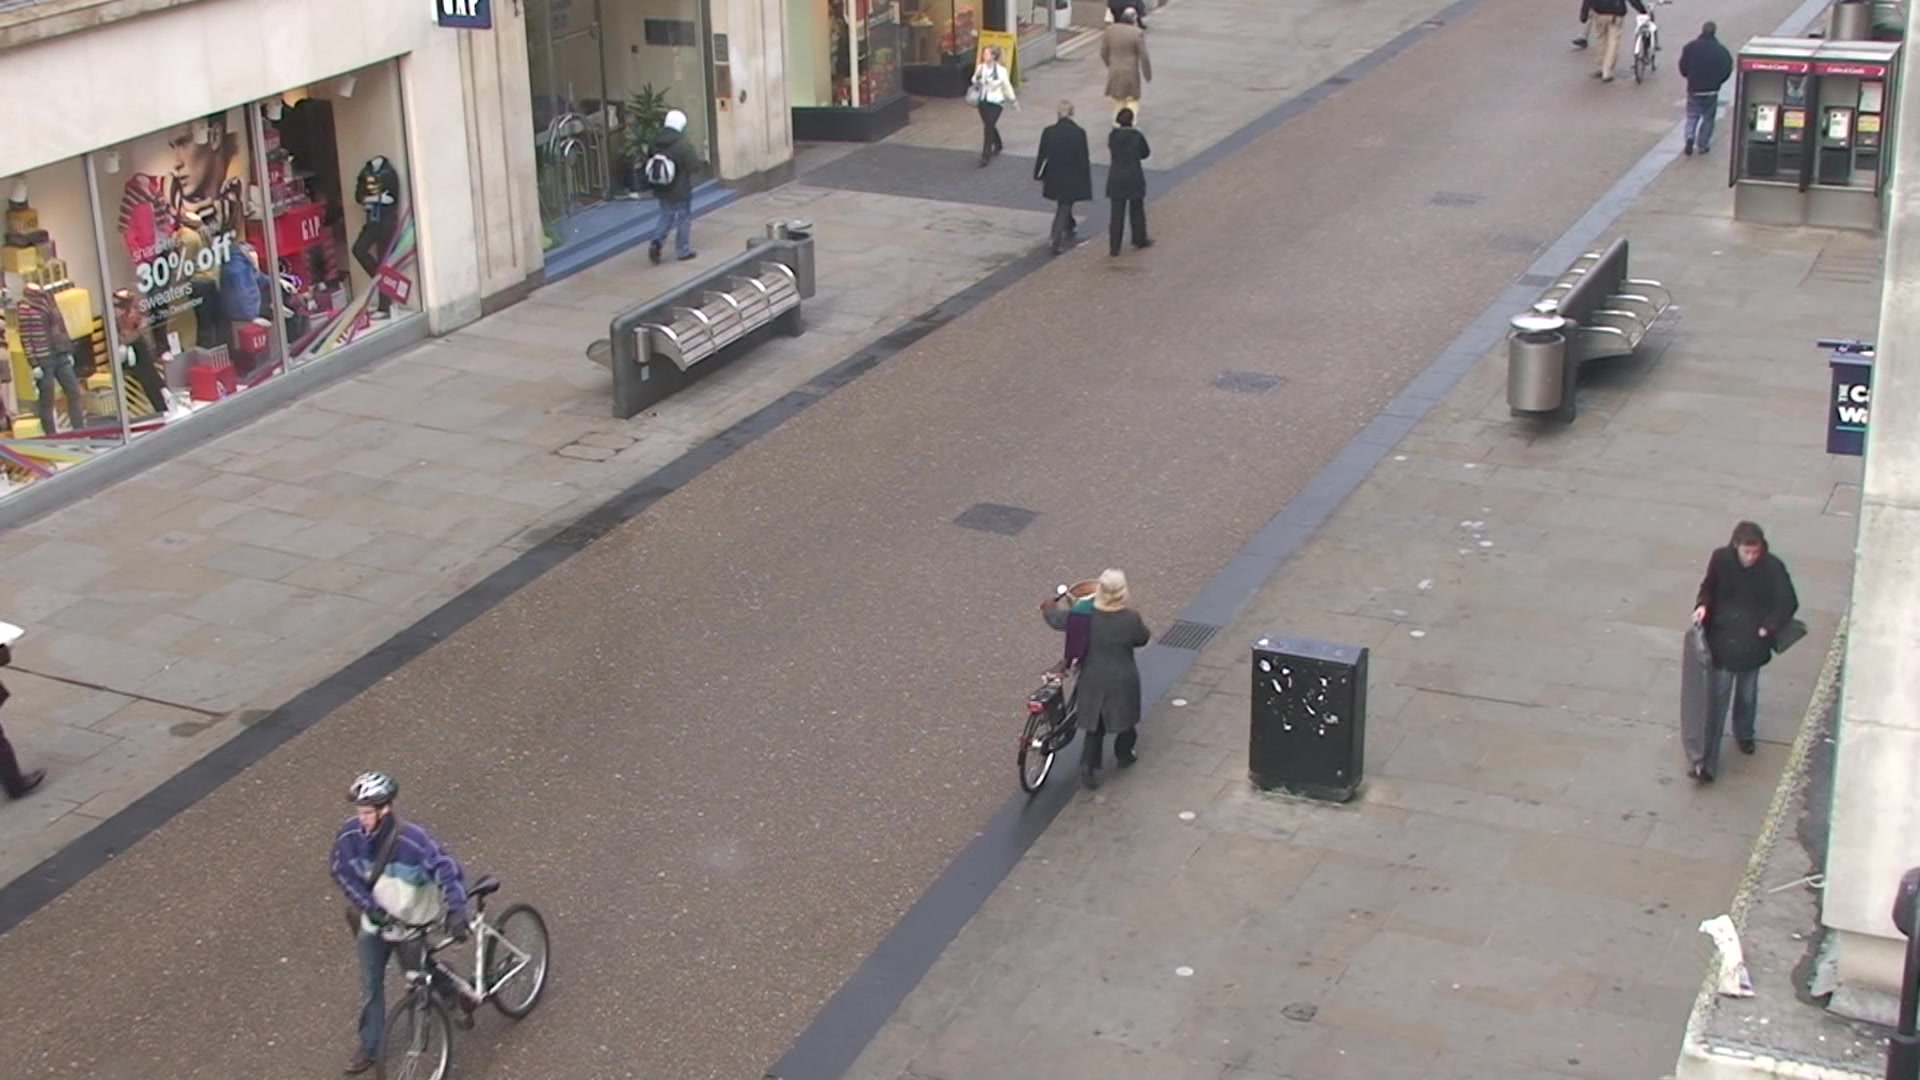person: (327, 770, 470, 1076), (1687, 519, 1801, 788), (1039, 565, 1152, 790), (642, 108, 714, 267), (1033, 98, 1095, 257), (1104, 110, 1161, 258), (1678, 20, 1734, 160), (1096, 3, 1154, 136), (964, 42, 1023, 170)
